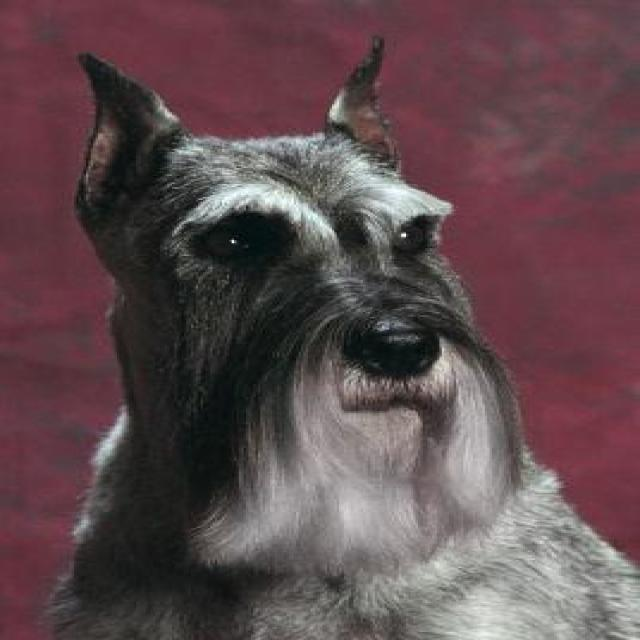standard_schnauzer: (43, 36, 638, 638)
